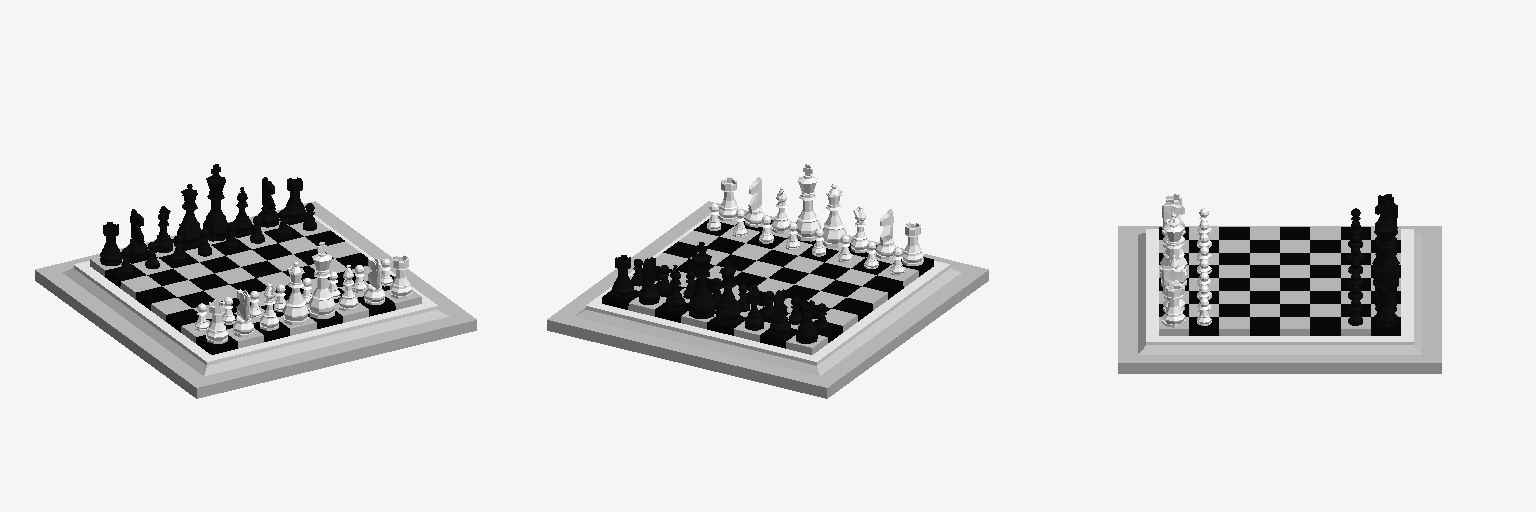
File: chessset.obj
3 views of the same model, side by side, from view 1: azimuth 30°, elevation 25°; view 2: azimuth 150°, elevation 25°; view 3: azimuth 270°, elevation 25° (orthographic).
Visible parts, largest first — view 1: Board, Pawn_Black, Pawn_White, Whtie_Rook, White_Knight, Black_Rook, Black_Knight, White_King, Black_King, Bishop_White, White_Queen, Bishop_Black (+1 smaller); view 2: Board, Pawn_White, Pawn_Black, Black_Rook, Black_Knight, Whtie_Rook, White_Knight, Black_King, White_King, Bishop_Black, Black_Queen, Bishop_White (+1 smaller); view 3: Board, Pawn_Black, Pawn_White, Black_Knight, White_Knight, Whtie_Rook, Black_Rook, Black_King, White_King.
Boxes of the visible parts, x1,y1,x2,y2 form: Board: [35, 201, 476, 398]; Pawn_Black: [119, 203, 316, 275]; Pawn_White: [195, 259, 392, 330]; Whtie_Rook: [206, 255, 411, 343]; White_Knight: [233, 257, 385, 336]; Black_Rook: [100, 177, 305, 265]; Black_Knight: [126, 177, 278, 259]; White_King: [309, 242, 334, 318]; Black_King: [203, 164, 227, 241]; Bishop_White: [260, 265, 357, 330]; White_Queen: [283, 262, 308, 325]; Bishop_Black: [154, 187, 251, 252]; Board: [547, 201, 988, 398]; Pawn_White: [707, 203, 904, 275]; Pawn_Black: [631, 259, 828, 330]; Black_Rook: [612, 255, 817, 343]; Black_Knight: [638, 257, 790, 336]; Whtie_Rook: [718, 177, 923, 265]; White_Knight: [745, 177, 897, 259]; Black_King: [689, 242, 714, 318]; White_King: [796, 164, 820, 241]; Bishop_Black: [666, 265, 763, 330]; Black_Queen: [715, 262, 740, 325]; Bishop_White: [772, 187, 869, 252]; Board: [1118, 226, 1441, 373]; Pawn_Black: [1348, 208, 1362, 325]; Pawn_White: [1197, 208, 1211, 325]; Black_Knight: [1375, 202, 1397, 311]; White_Knight: [1162, 202, 1184, 311]; Whtie_Rook: [1162, 194, 1185, 327]; Black_Rook: [1374, 194, 1397, 327]; Black_King: [1372, 212, 1399, 286]; White_King: [1160, 212, 1187, 286].
Bounding box in the file's own units: 0.6108 × 0.206 × 0.6108.